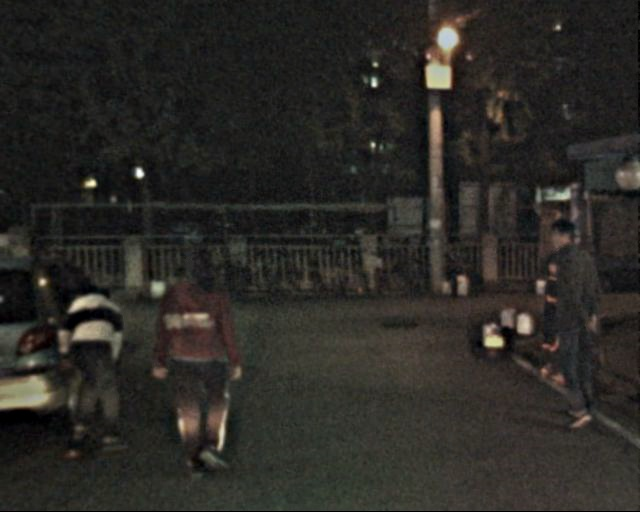person: (159, 243, 253, 484), (534, 212, 612, 438), (62, 267, 132, 452)
